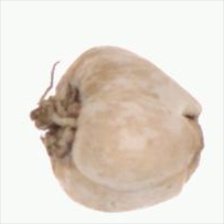L3: (182, 99, 205, 193)
L4: (31, 44, 205, 213)
